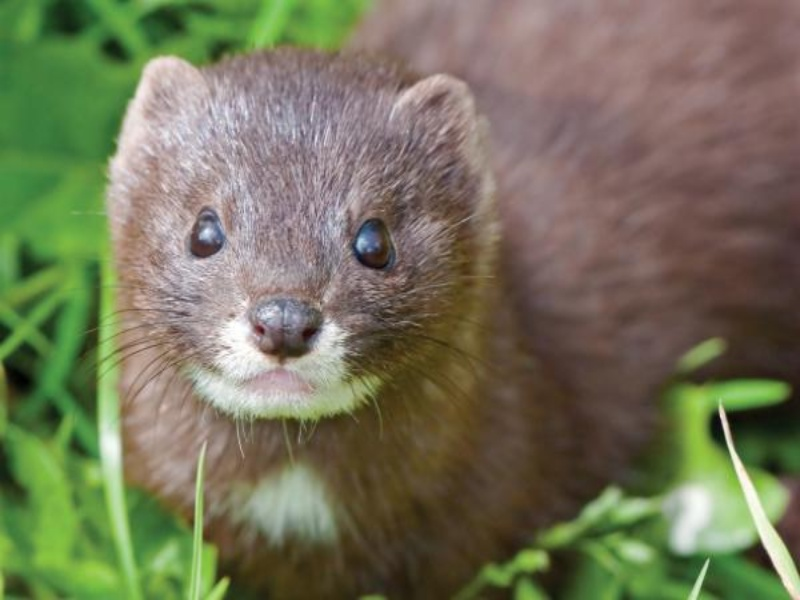minkish: (107, 8, 780, 590)
